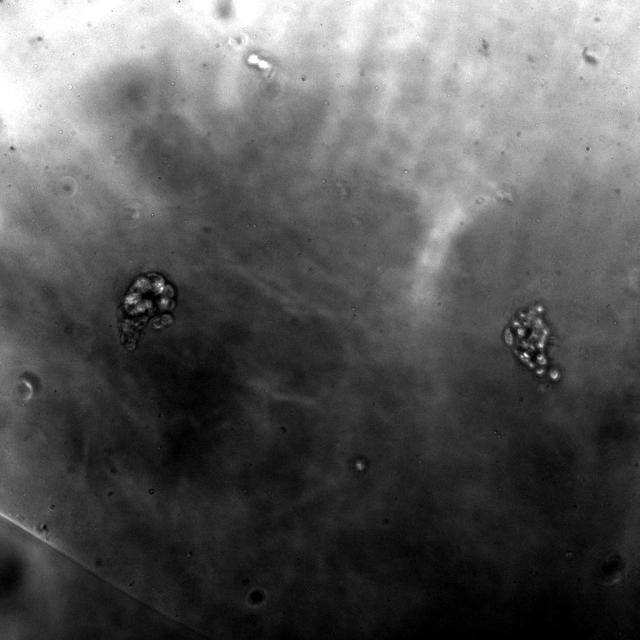organoid: (118, 272, 176, 351), (502, 304, 559, 381), (598, 553, 626, 586), (248, 588, 266, 606)
